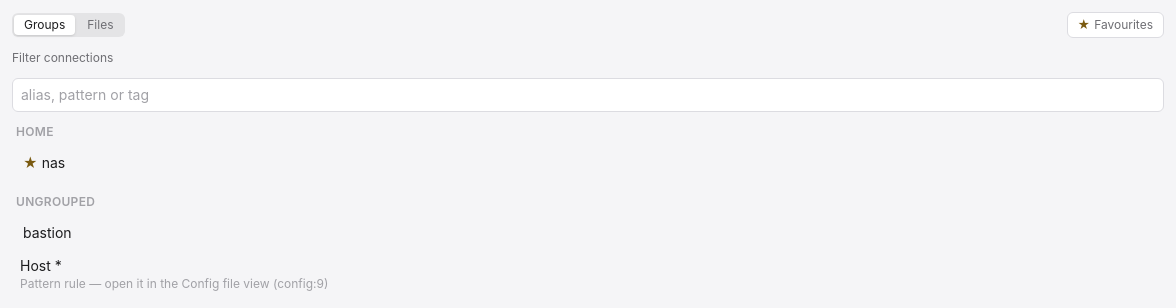
ConnectionTree › switches to the Include file hierarchy
Click the button "Files". click: (100, 25)
box: x1=77 y1=15 x2=124 y2=35
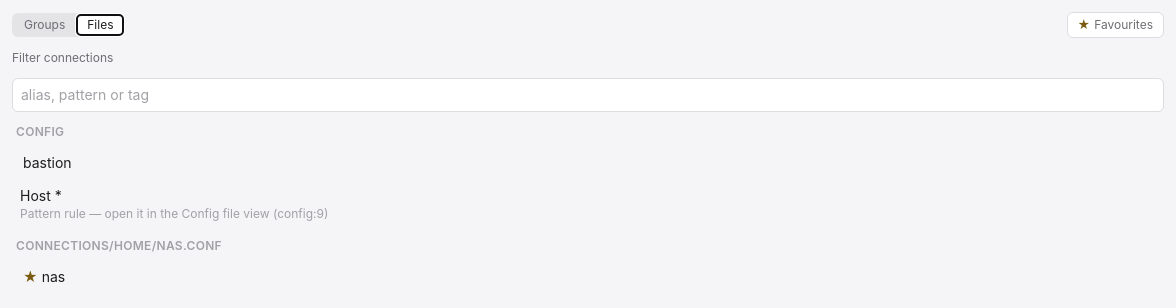
Result: the heading "connections/home/nas.conf" is shown at x1=16 y1=238 x2=222 y2=253
